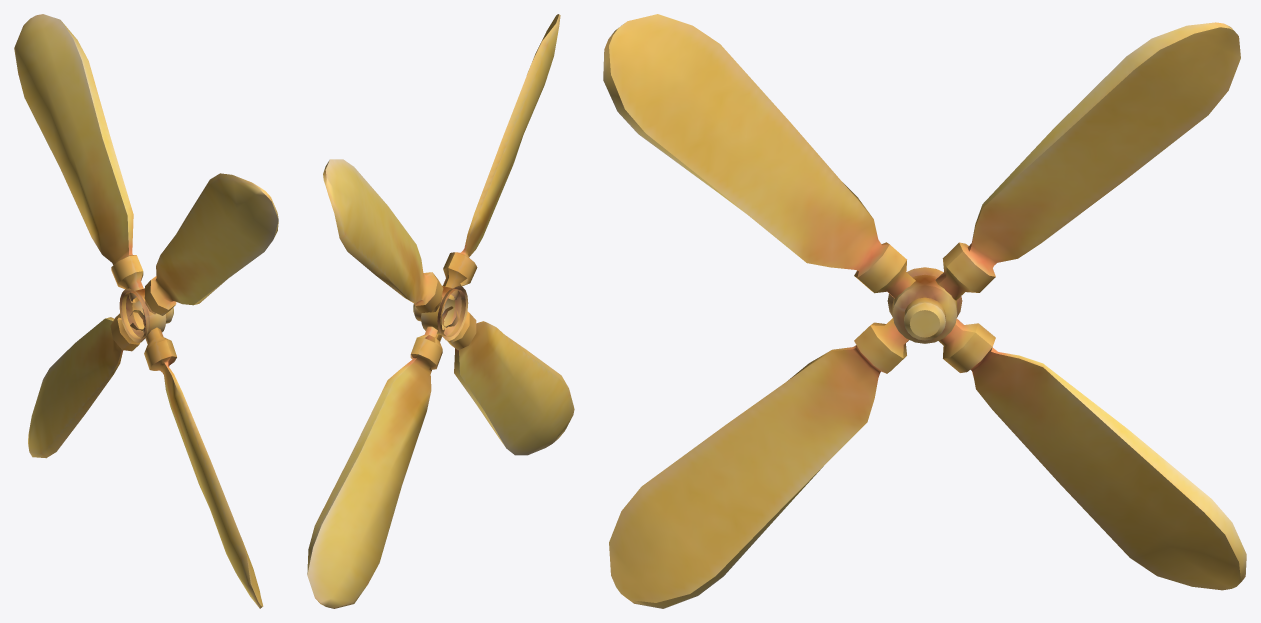
The model's file is Helix1.obj.
3 views of the same model, side by side, from view 1: azimuth 30°, elevation 25°; view 2: azimuth 150°, elevation 25°; view 3: azimuth 270°, elevation 25° (orthographic). The views are drawn at different scales.
Parts seen in each view (by area): view 1: balloon.002; view 2: balloon.002; view 3: balloon.002.
Part boxes in pixels (x1,y1,x2,y2): balloon.002: (14, 14, 278, 608); balloon.002: (307, 14, 574, 608); balloon.002: (603, 14, 1246, 608).
Size of the model in its own units: 0.4424 by 4.6 by 4.6.
